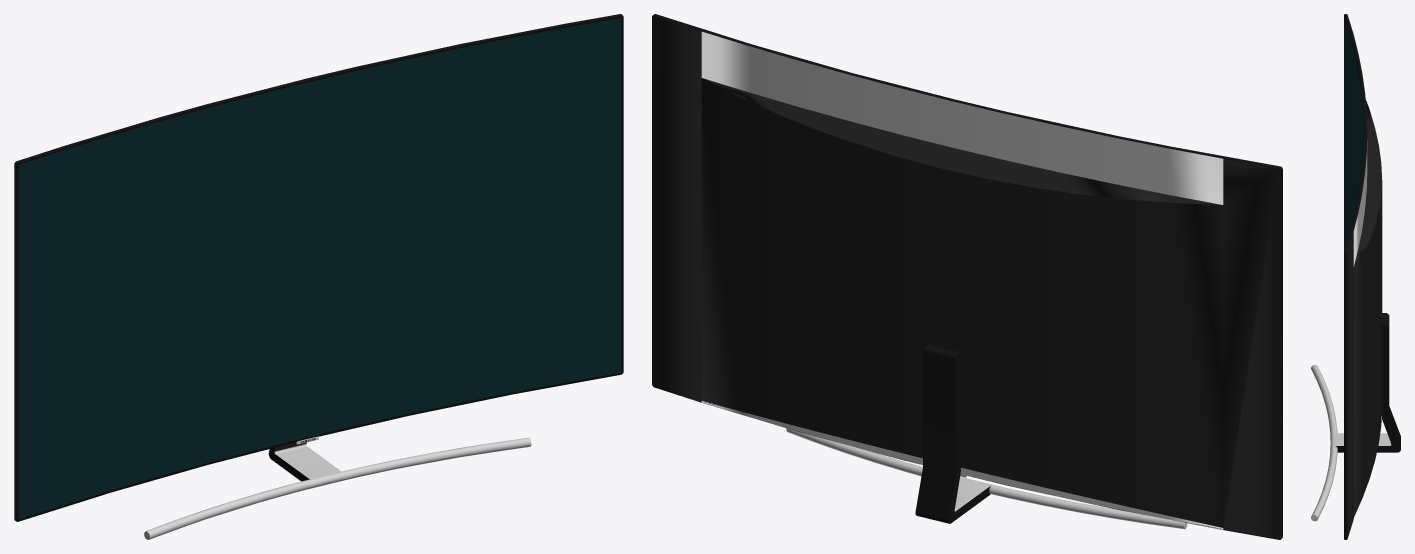
The model's file is Samsung 65' TV.fbx.
3 renders of one model, left to right at view 1: azimuth 30°, elevation 25°; view 2: azimuth 150°, elevation 25°; view 3: azimuth 270°, elevation 25°, orthographic. The views are drawn at different scales.
Visible parts, largest first — view 1: object.001, object.003, object.002, object.006; view 2: object.004, object.003, object.002; view 3: object.004, object.002, object.001, object.003, object.006.
Part boxes in pixels (left/top/right/bottom): object.001: left=18, top=18, right=621, bottom=519; object.003: left=144, top=436, right=531, bottom=539; object.002: left=14, top=14, right=623, bottom=521; object.006: left=17, top=16, right=623, bottom=521; object.004: left=652, top=16, right=1280, bottom=539; object.003: left=701, top=31, right=1223, bottom=529; object.002: left=652, top=14, right=1282, bottom=539; object.004: left=1347, top=99, right=1382, bottom=538; object.002: left=1335, top=14, right=1400, bottom=539; object.001: left=1344, top=17, right=1363, bottom=249; object.003: left=1311, top=141, right=1391, bottom=521; object.006: left=1344, top=15, right=1363, bottom=250.
Size of the model in its own units: 145 by 89.11 by 23.14.
